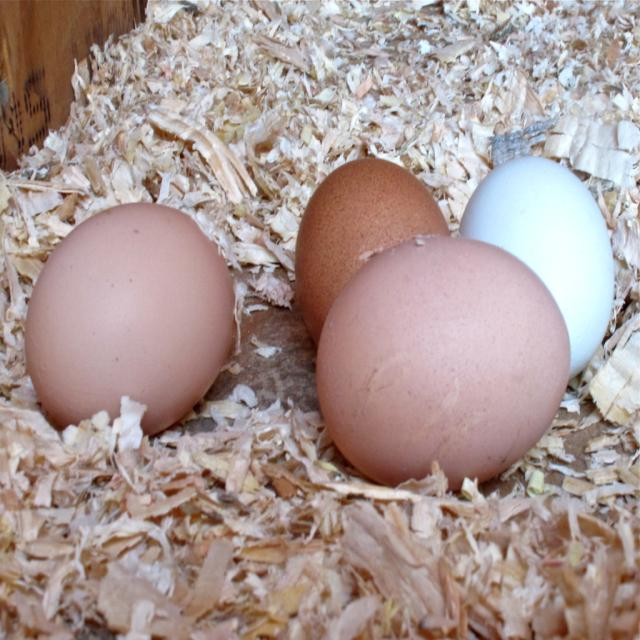Egg: (294, 156, 614, 488), (23, 203, 238, 437), (459, 154, 614, 378), (295, 157, 452, 350)
